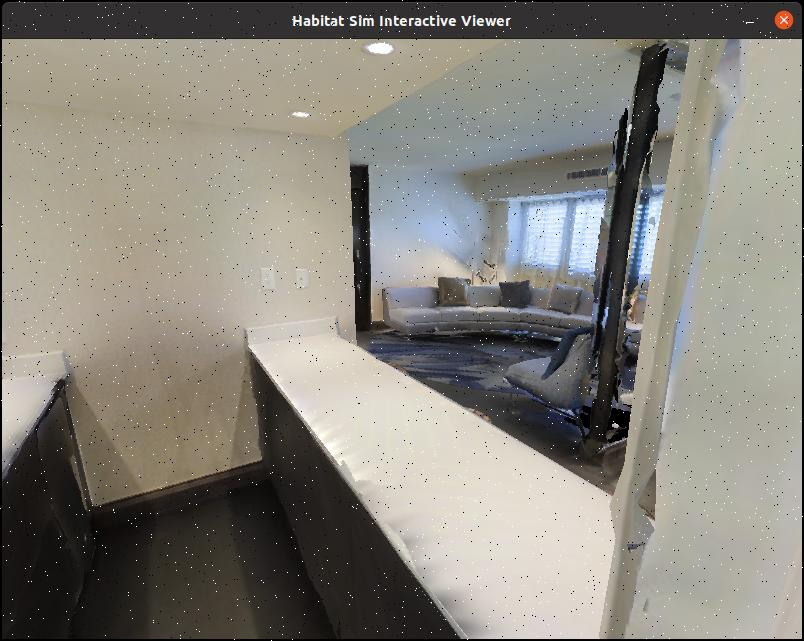table: (234, 313, 643, 641)
